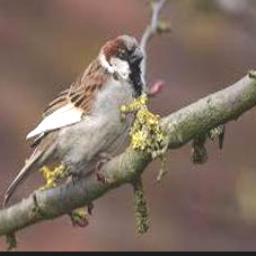Sparrow: (2, 34, 143, 208)
